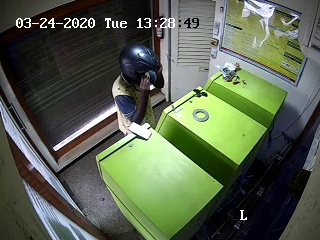helmet: (119, 41, 167, 92)
